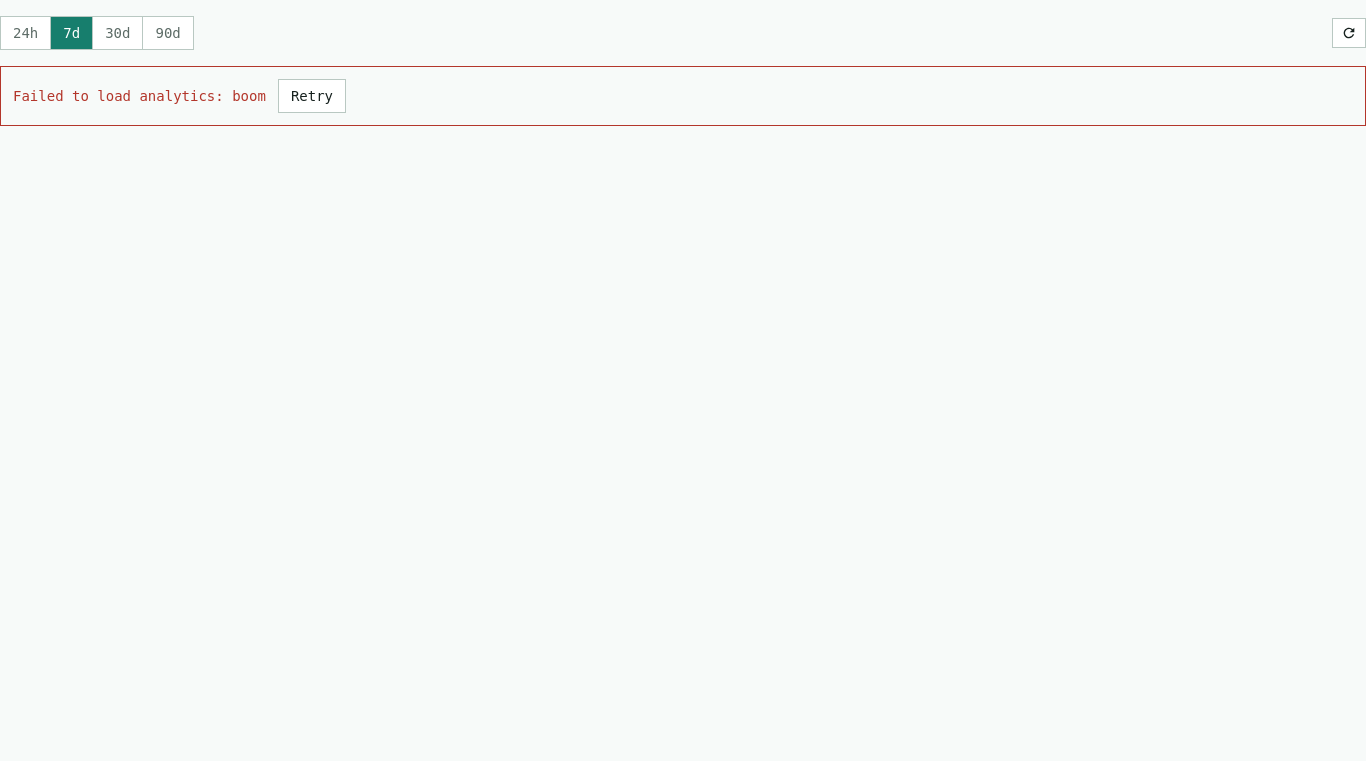
Test: Analytics › shows an error with retry
Expected: the message shows "boom", x1=232 y1=88 x2=266 y2=104
Click the button "Retry": click(312, 96) x1=278 y1=79 x2=346 y2=113
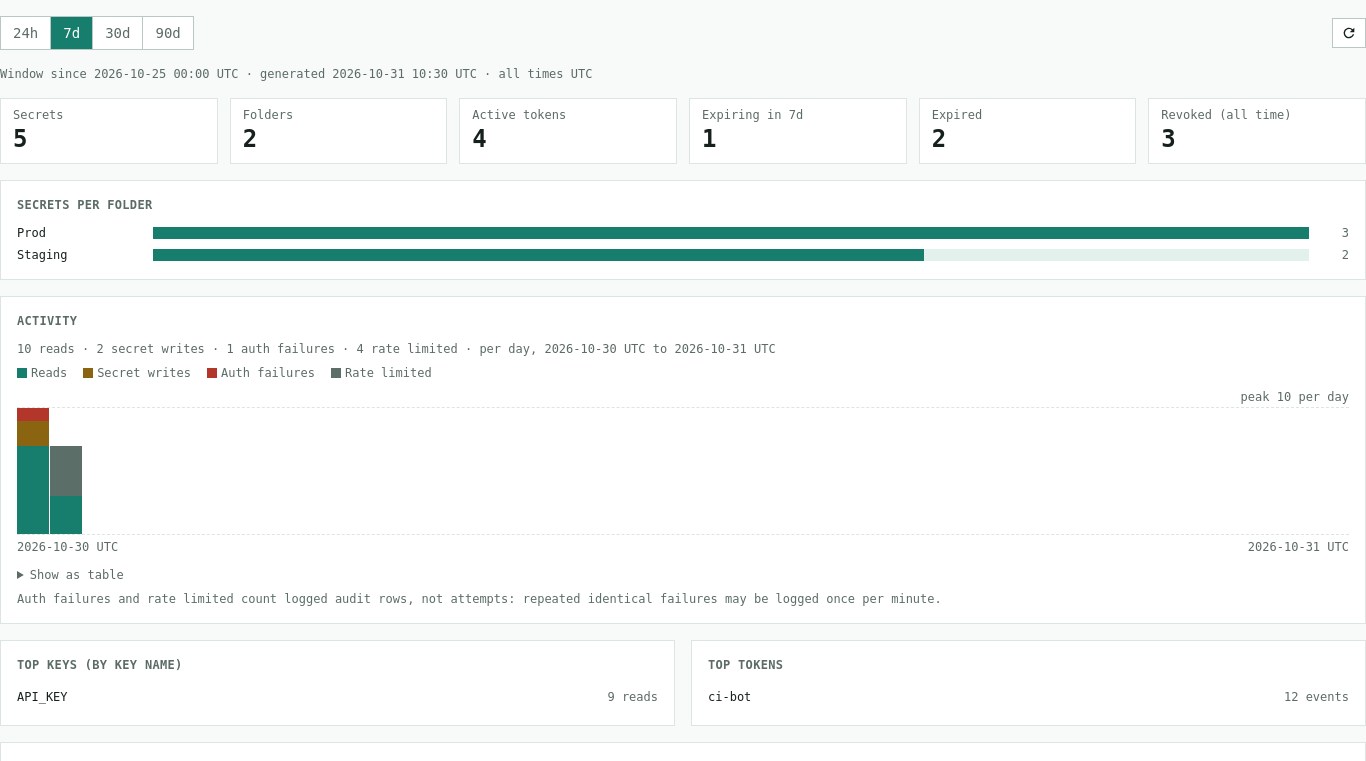
Result: the heading "Secrets per folder" is shown at x1=17 y1=198 x2=152 y2=212
